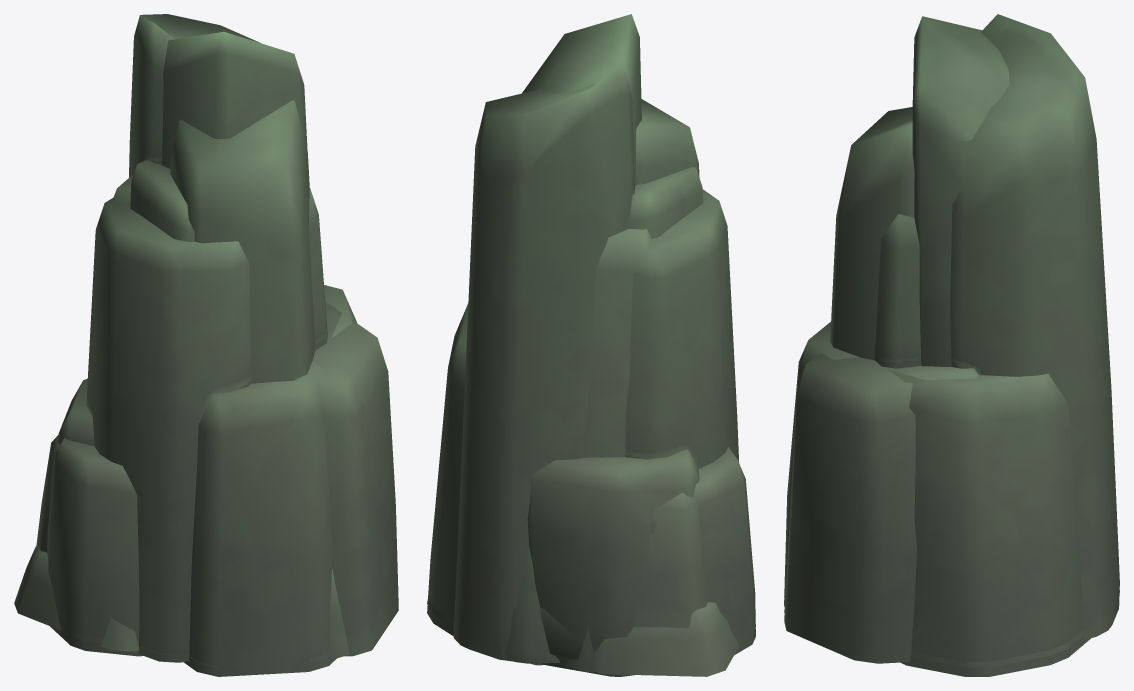
The model's file is boulders_exp.fbx.
The picture shows the model from 3 angles, left to right: view 1: azimuth 30°, elevation 25°; view 2: azimuth 150°, elevation 25°; view 3: azimuth 270°, elevation 25°; orthographic projection.
Parts seen in each view (by area): view 1: boulder_tall2, boulder_tall1, boulder_tall3, boulder_short1; view 2: boulder_tall3, boulder_tall2, boulder_tall1, boulder_short1, boulder_short3; view 3: boulder_tall3, boulder_tall1, boulder_tall2, boulder_short2.
Part boxes in pixels (left/top/right/bottom): boulder_tall2: left=58, top=31, right=336, bottom=676; boulder_tall1: left=47, top=100, right=356, bottom=656; boulder_tall3: left=36, top=14, right=398, bottom=656; boulder_short1: left=14, top=545, right=349, bottom=658; boulder_tall3: left=453, top=62, right=707, bottom=672; boulder_tall2: left=522, top=14, right=739, bottom=676; boulder_tall1: left=427, top=99, right=755, bottom=665; boulder_short1: left=505, top=546, right=738, bottom=676; boulder_short3: left=540, top=608, right=582, bottom=659; boulder_tall3: left=784, top=14, right=1119, bottom=663; boulder_tall1: left=830, top=107, right=1090, bottom=676; boulder_tall2: left=784, top=16, right=1009, bottom=607; boulder_short2: left=910, top=629, right=1084, bottom=667.
Size of the model in its own units: 366 by 654 by 342.
Materials: 2 (2 with a texture image).
